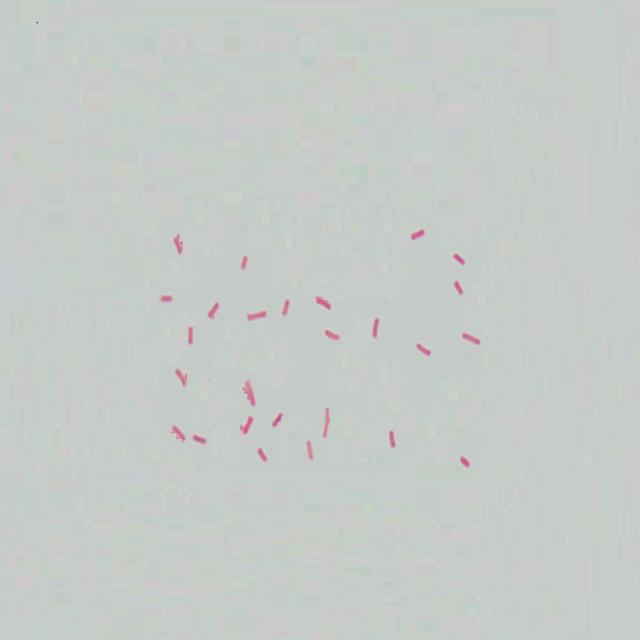E-coli: (453, 447, 476, 476), (382, 424, 402, 457), (412, 337, 436, 360), (243, 305, 267, 328), (311, 291, 334, 314), (457, 324, 481, 346), (321, 400, 333, 441), (450, 247, 470, 268), (320, 324, 341, 344), (243, 379, 258, 407), (278, 292, 292, 321), (368, 311, 382, 339), (269, 410, 286, 433), (452, 274, 469, 296), (406, 225, 426, 243), (239, 411, 254, 435), (170, 423, 186, 445), (171, 366, 187, 388), (155, 293, 178, 308), (172, 233, 185, 258), (304, 437, 316, 463), (206, 301, 221, 321), (190, 433, 209, 448), (257, 444, 268, 468), (187, 325, 196, 349), (239, 254, 251, 271)
